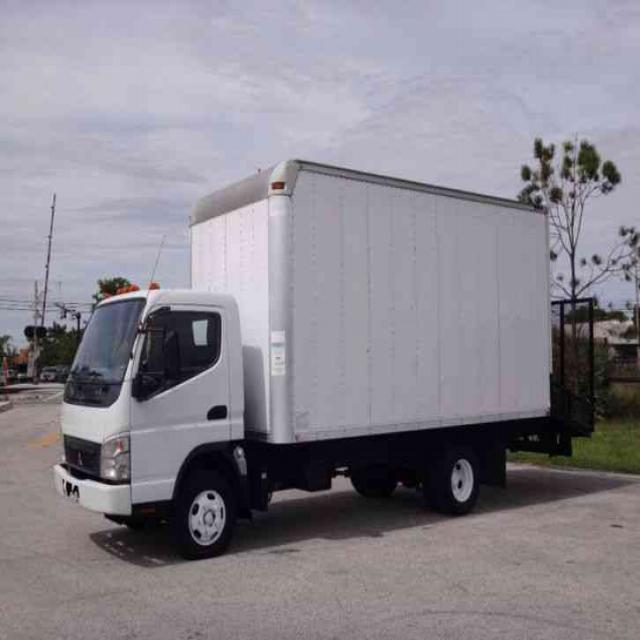Truck: (51, 156, 592, 552)
